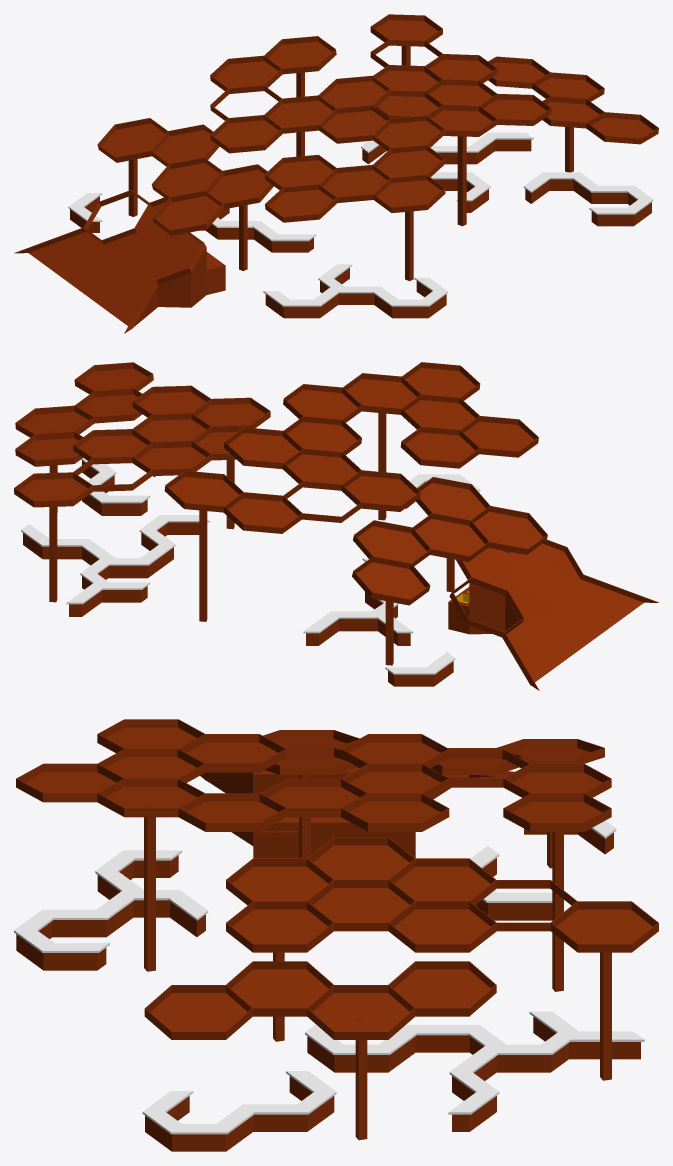
Rendered from Pavilion_Raquel_Alonso.fbx.
3 renders of one model, top to bottom at view 1: azimuth 30°, elevation 25°; view 2: azimuth 150°, elevation 25°; view 3: azimuth 270°, elevation 25°, orthographic. The views are drawn at different scales.
Visible parts, largest first — view 1: corten, wood; view 2: corten, wood; view 3: corten, wood.
Boxes of the visible parts, x1=… form: corten: x1=14, y1=14, x2=658, y2=333; wood: x1=68, y1=132, x2=653, y2=306; corten: x1=14, y1=362, x2=658, y2=690; wood: x1=21, y1=458, x2=480, y2=674; corten: x1=16, y1=719, x2=658, y2=1151; wood: x1=14, y1=820, x2=644, y2=1134.
Bounding box in the file's own units: 19.4 × 4.36 × 13.76.
